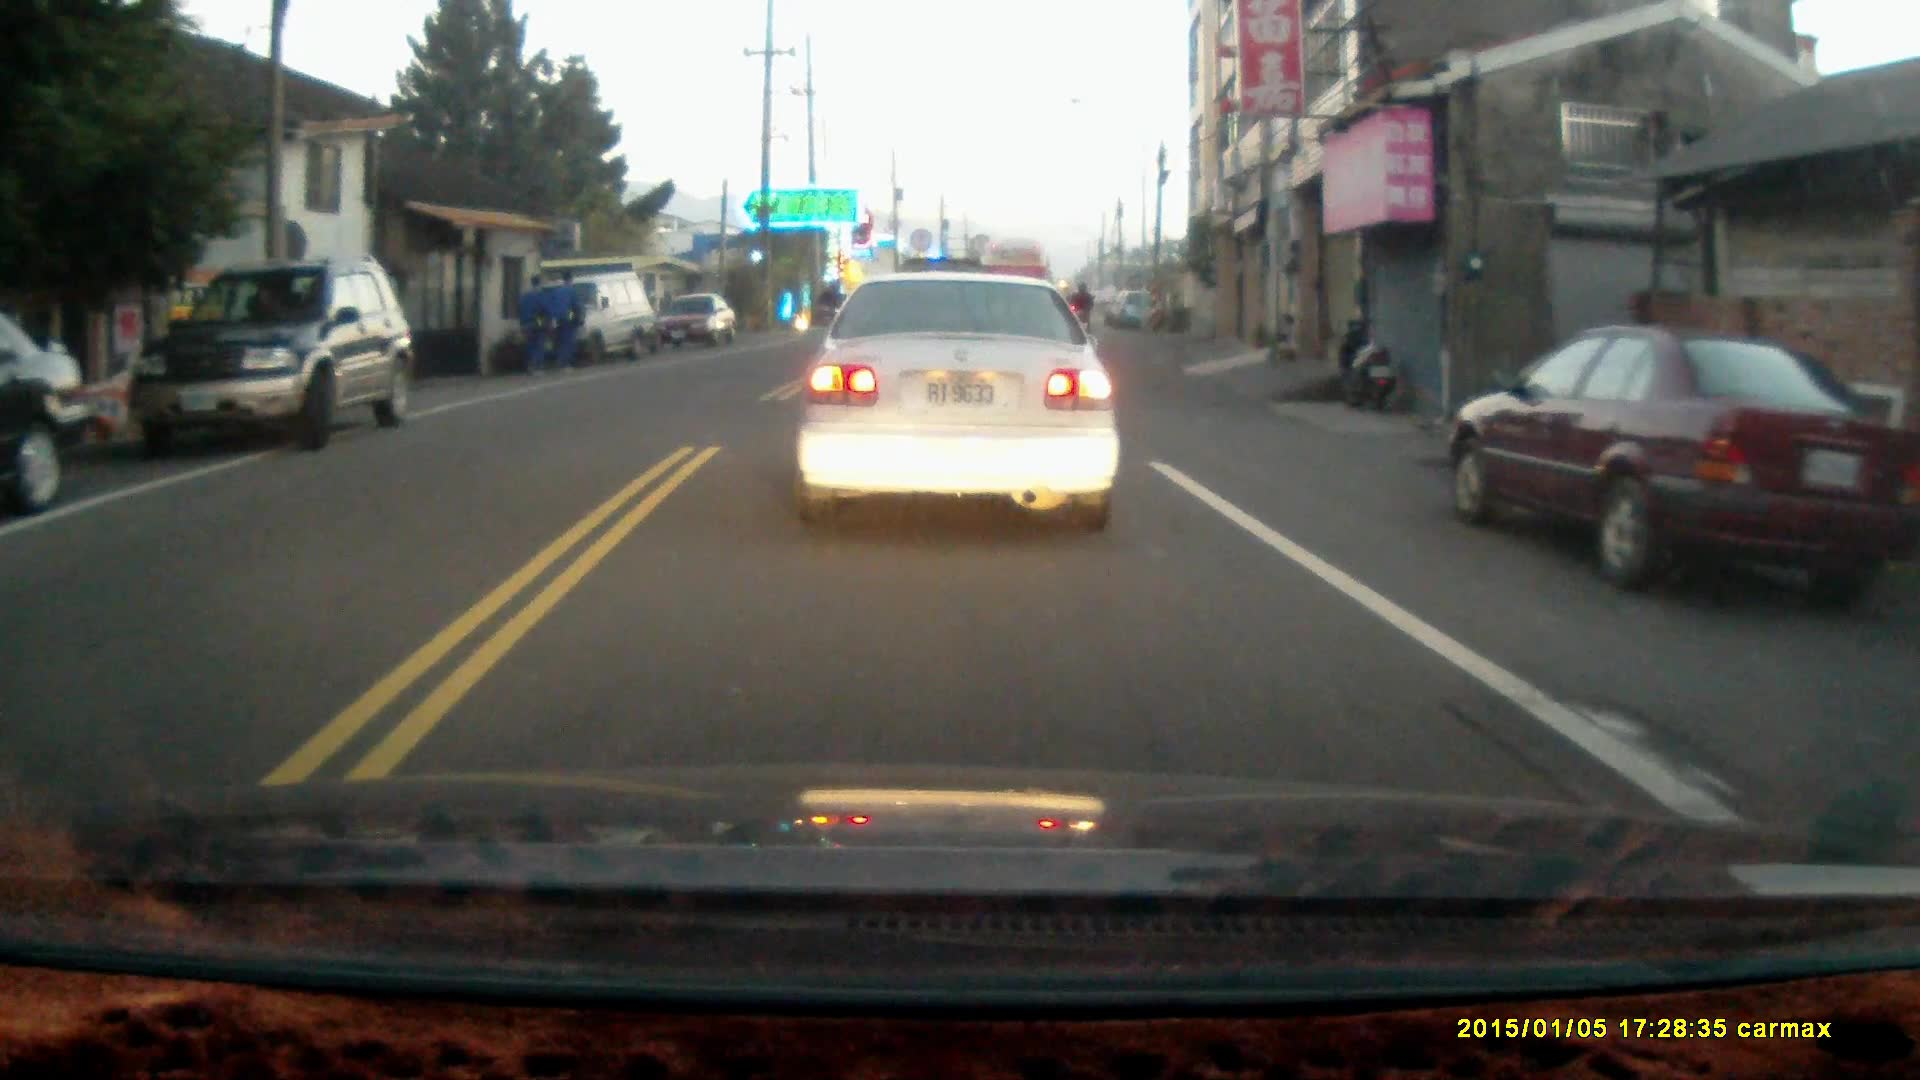pedestrian: (514, 270, 550, 380), (552, 267, 585, 377)
vehicle: (1447, 326, 1914, 596), (795, 273, 1125, 541), (133, 254, 413, 449), (1, 314, 96, 512), (538, 270, 670, 362), (650, 290, 740, 353)
